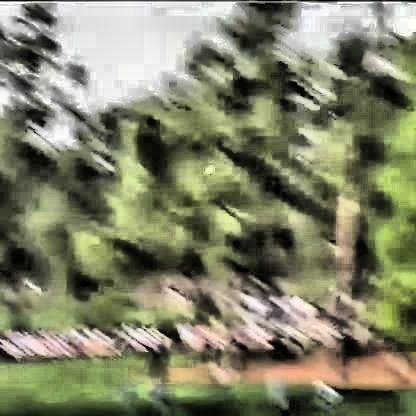golfball: (201, 164, 212, 174)
